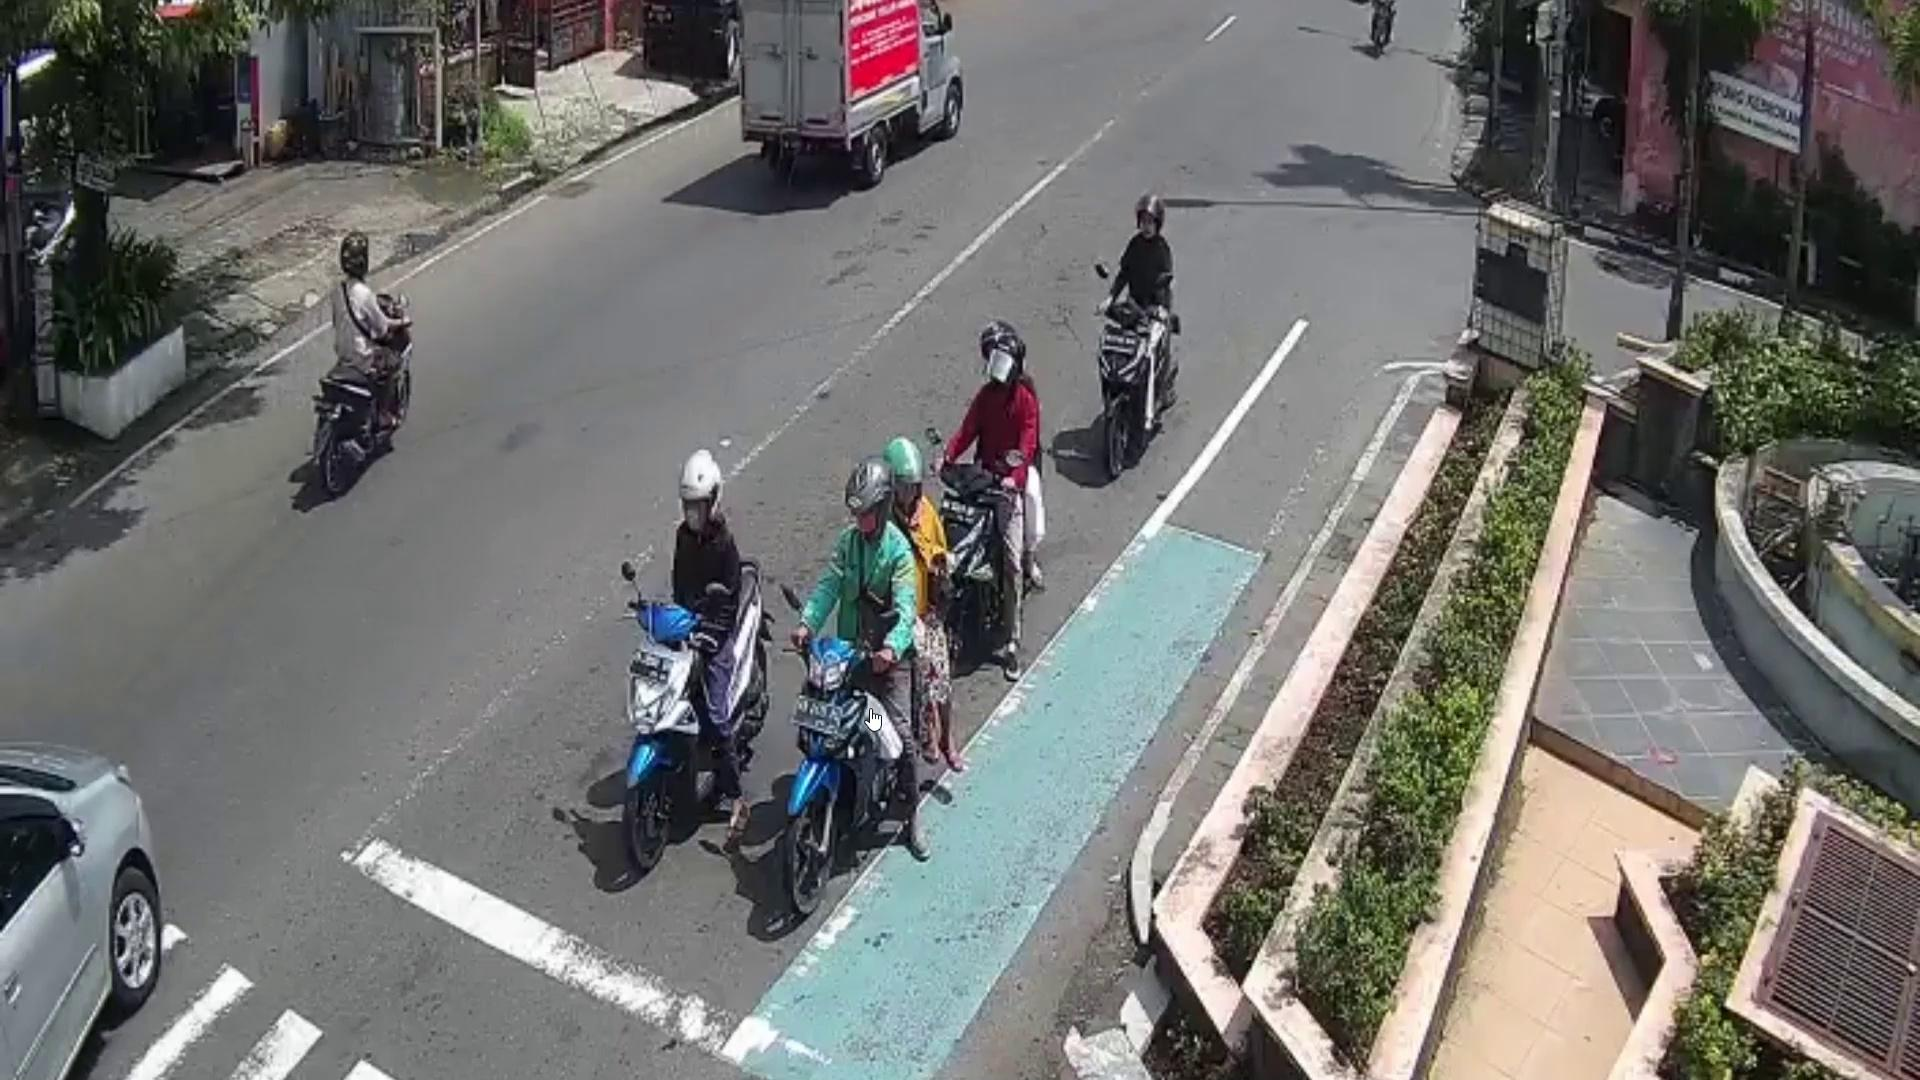car: (0, 737, 167, 1080)
motorbike: (777, 580, 951, 923), (615, 558, 777, 877), (924, 423, 1042, 705), (307, 289, 417, 501), (1092, 291, 1184, 476)
truck: (733, 0, 969, 190)
